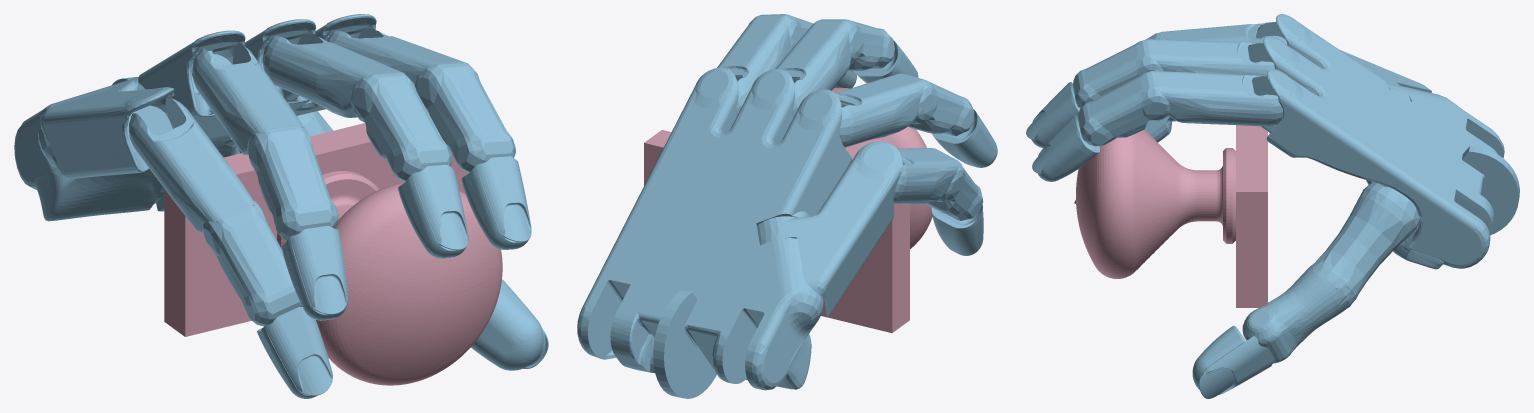
3 views of the same model, side by side, from view 1: azimuth 30°, elevation 25°; view 2: azimuth 150°, elevation 25°; view 3: azimuth 270°, elevation 25° (orthographic). The views are drawn at different scales.
Parts seen in each view (by area): view 1: world, door_knob.stl; view 2: world, door_knob.stl; view 3: world, door_knob.stl.
Part boxes in pixels (<box>): world: <box>14,14,548,398</box>; door_knob.stl: <box>164,113,502,385</box>; world: <box>577,14,997,398</box>; door_knob.stl: <box>644,87,932,332</box>; world: <box>1026,14,1519,398</box>; door_knob.stl: <box>1076,125,1267,307</box>.
Bounding box in the file's own units: 0.1273 × 0.1236 × 0.1929.
